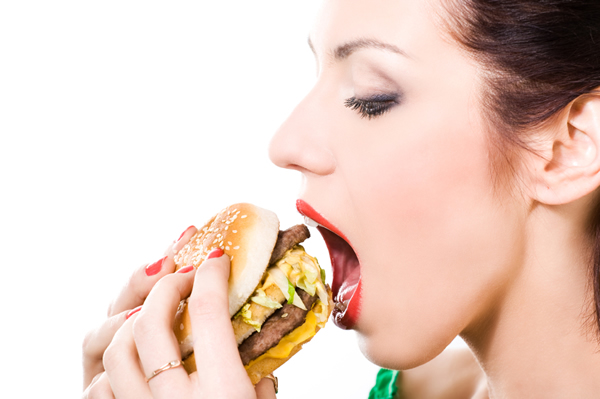eating: (77, 4, 565, 375)
